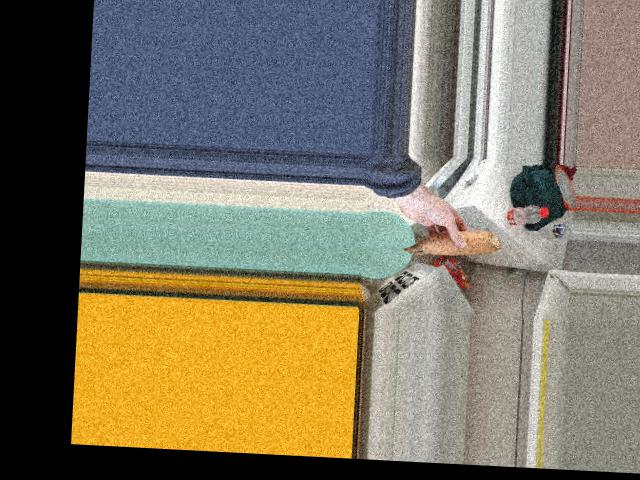sweet_potato: (404, 225, 497, 266)
